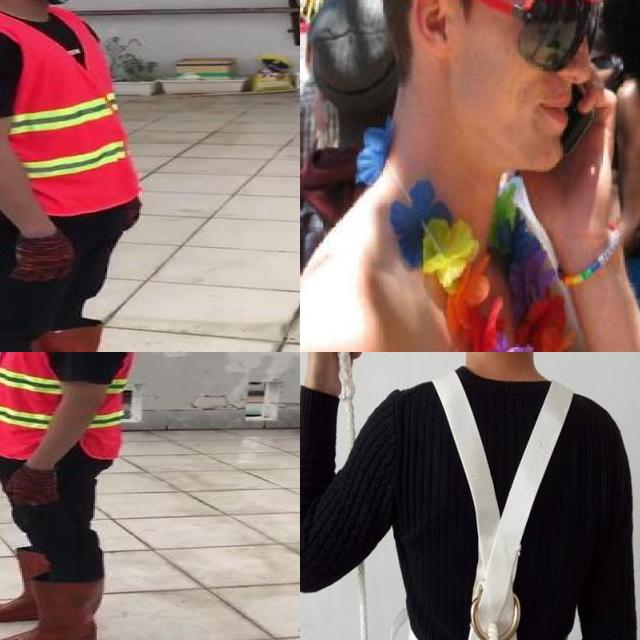Harness: (408, 367, 574, 640)
No_Ear-Protection: (405, 0, 457, 57)
boots: (0, 578, 105, 640), (0, 547, 52, 621), (27, 326, 162, 352)
face_nomask: (516, 0, 599, 134)
glasses: (396, 0, 601, 78)
hand_glove: (8, 234, 74, 282), (5, 466, 60, 506), (125, 197, 141, 235)
head_nohelmet: (602, 0, 640, 32)
person: (300, 0, 640, 352), (0, 0, 180, 352), (0, 352, 148, 640)
vest: (0, 3, 137, 214), (0, 352, 132, 461)
